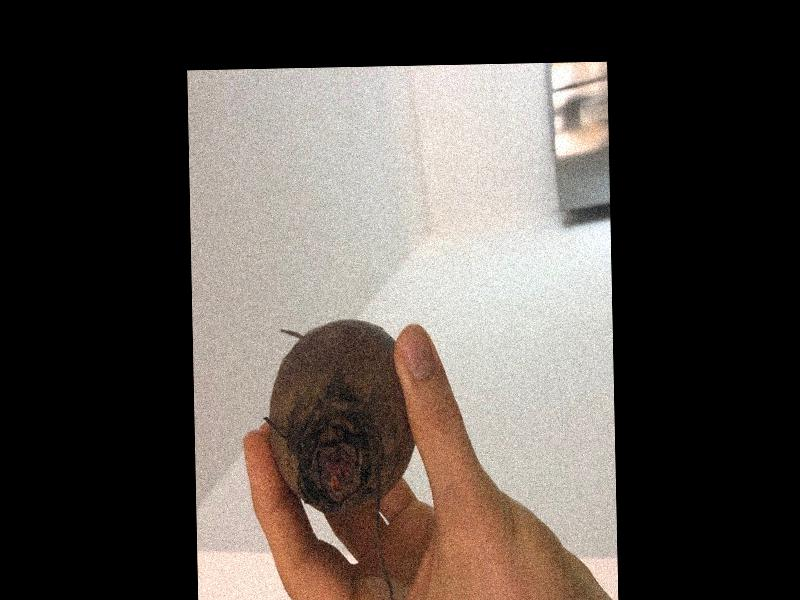Beet: (261, 316, 420, 600)
